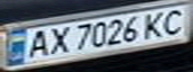0: (90, 19, 112, 48)
2: (106, 16, 127, 47)
6: (121, 14, 145, 43)
7: (69, 21, 93, 52)
A: (21, 27, 54, 61)
C: (157, 7, 193, 36)
K: (139, 9, 172, 39)
X: (45, 25, 72, 56)
